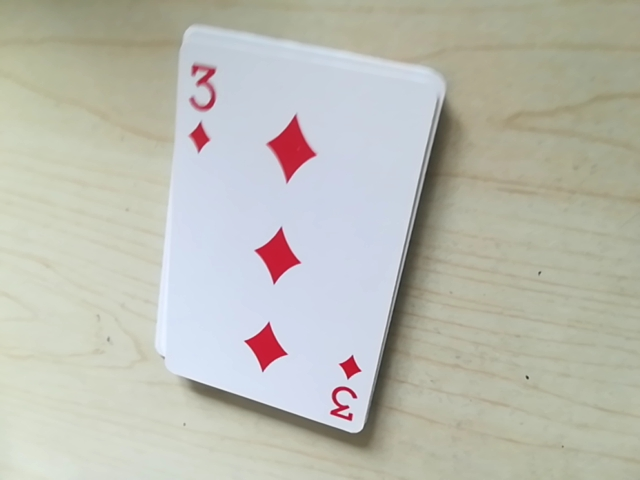fk 3: (173, 49, 224, 171), (321, 358, 366, 428)
